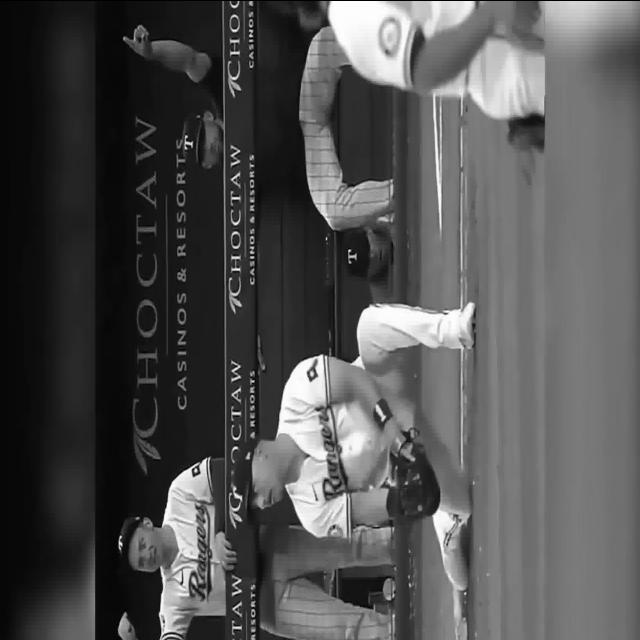base: (452, 587, 468, 640)
baseball_glove: (396, 442, 440, 520)
shoe: (432, 509, 469, 589), (459, 300, 475, 349)
